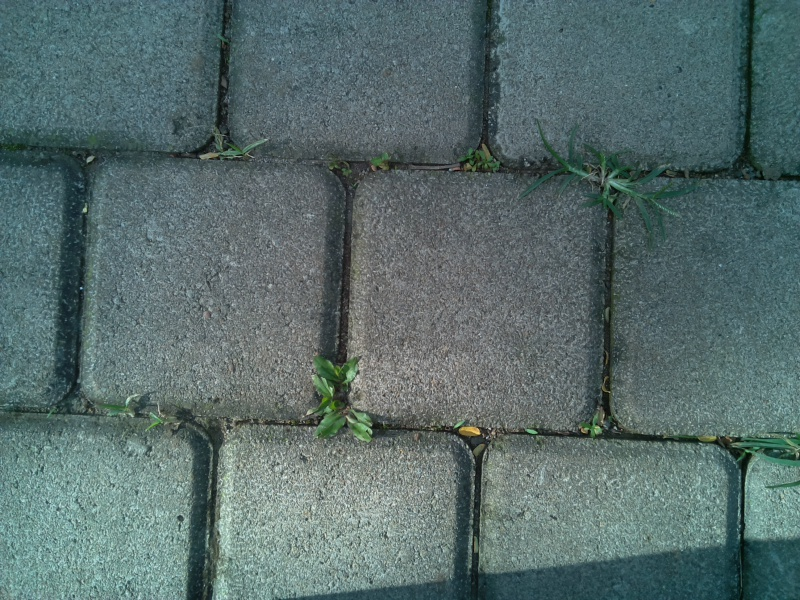Weed: (527, 118, 692, 237), (298, 347, 384, 445), (93, 383, 186, 437), (200, 129, 277, 172), (457, 139, 505, 178), (362, 148, 407, 184), (574, 407, 604, 441)
